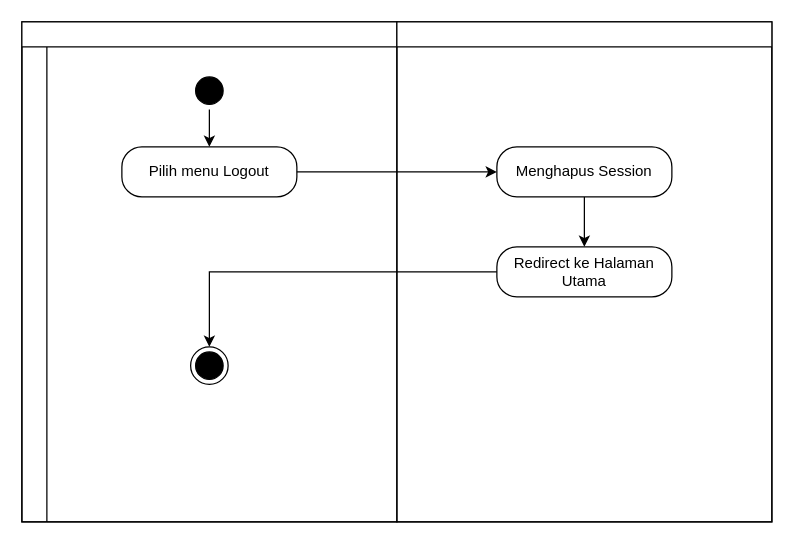
Some shapes in this 794 by 544 pixel diagram are drawn without their labels. Each missing label, with the box of its shape:
Pengguna: (21, 21, 397, 522)
Sistem: (396, 21, 772, 522)
